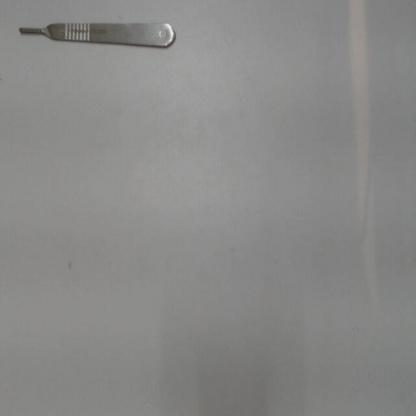No.3 BP Handle: (16, 18, 183, 57)
